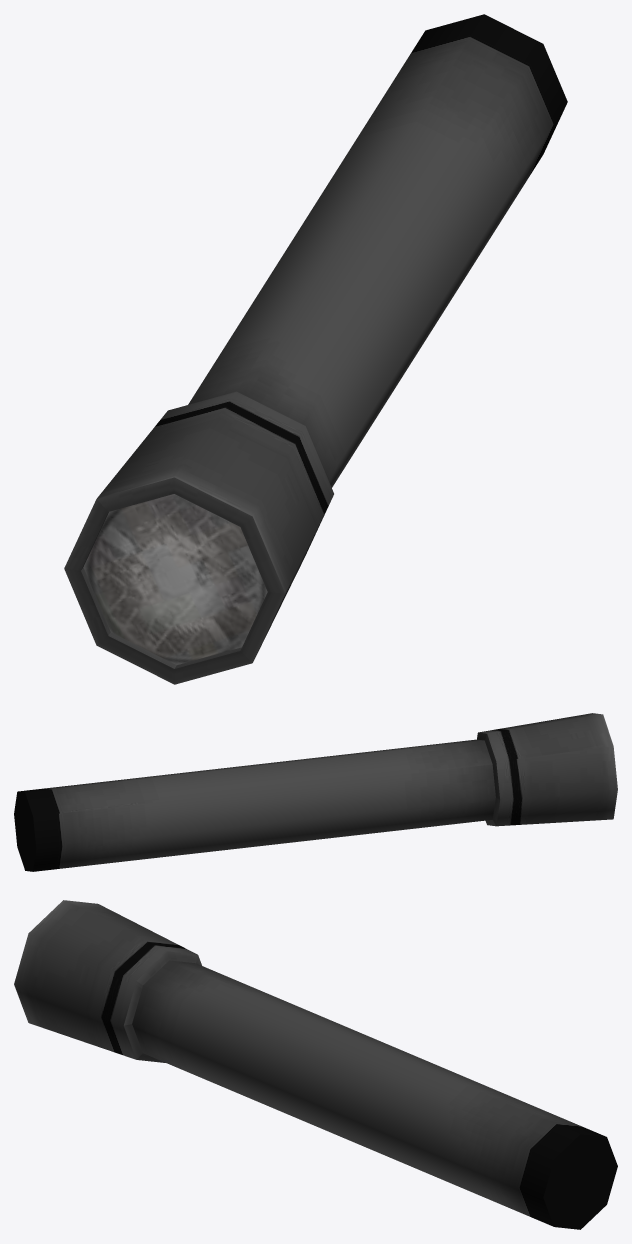
File: TorchLight.FBX
The picture shows the model from 3 angles, top to bottom: view 1: azimuth 30°, elevation 25°; view 2: azimuth 150°, elevation 25°; view 3: azimuth 270°, elevation 25°; orthographic projection. The views are drawn at different scales.
Parts seen in each view (by area): view 1: Cylinder005; view 2: Cylinder005; view 3: Cylinder005.
Boxes of the visible parts, <box> form: Cylinder005: <box>64,14,567,684</box>; Cylinder005: <box>14,713,617,871</box>; Cylinder005: <box>14,900,617,1229</box>.
Bounding box in the file's own units: 62.03 × 14.36 × 62.03.
Materials: 1 (1 with a texture image).
